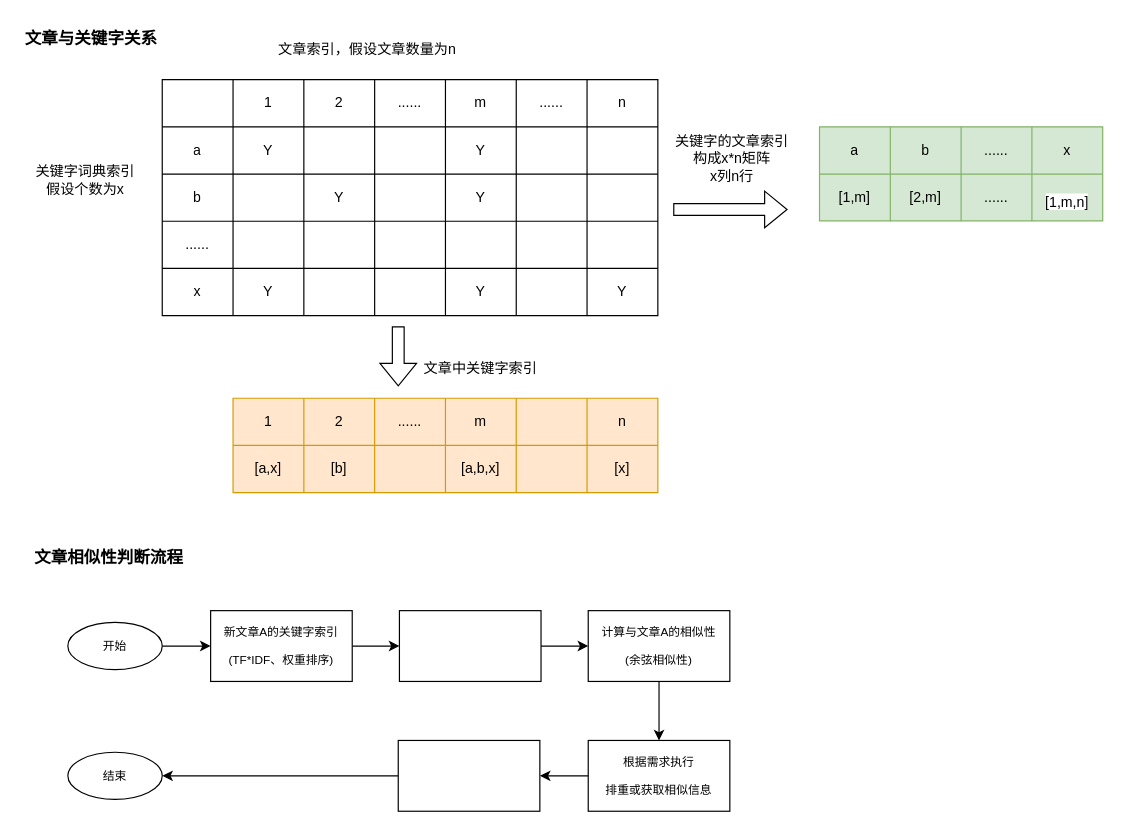
This 1123x832 diagram has some shape labels left out. Each missing label, with the centre of its shape:
关键字的文章索引集 (按照关键字权重排序): point (469, 645)
文章A维护进关系集: point (468, 775)
